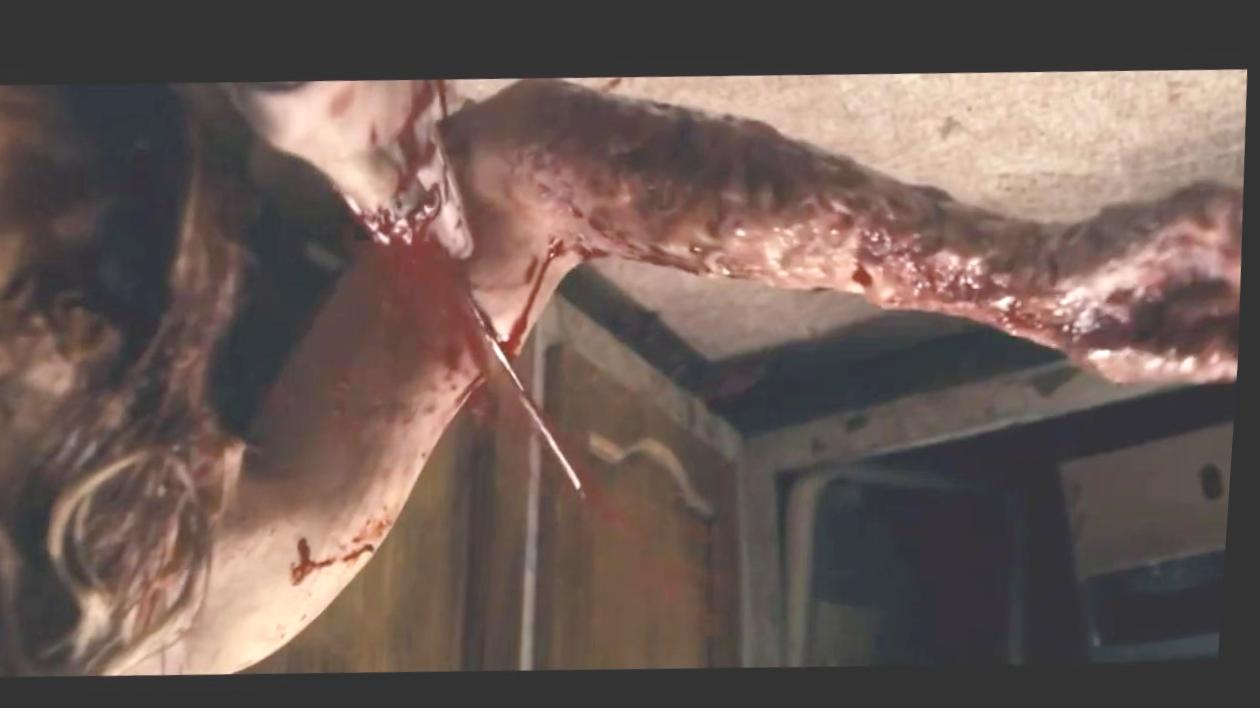Fire: (287, 78, 1245, 632)
